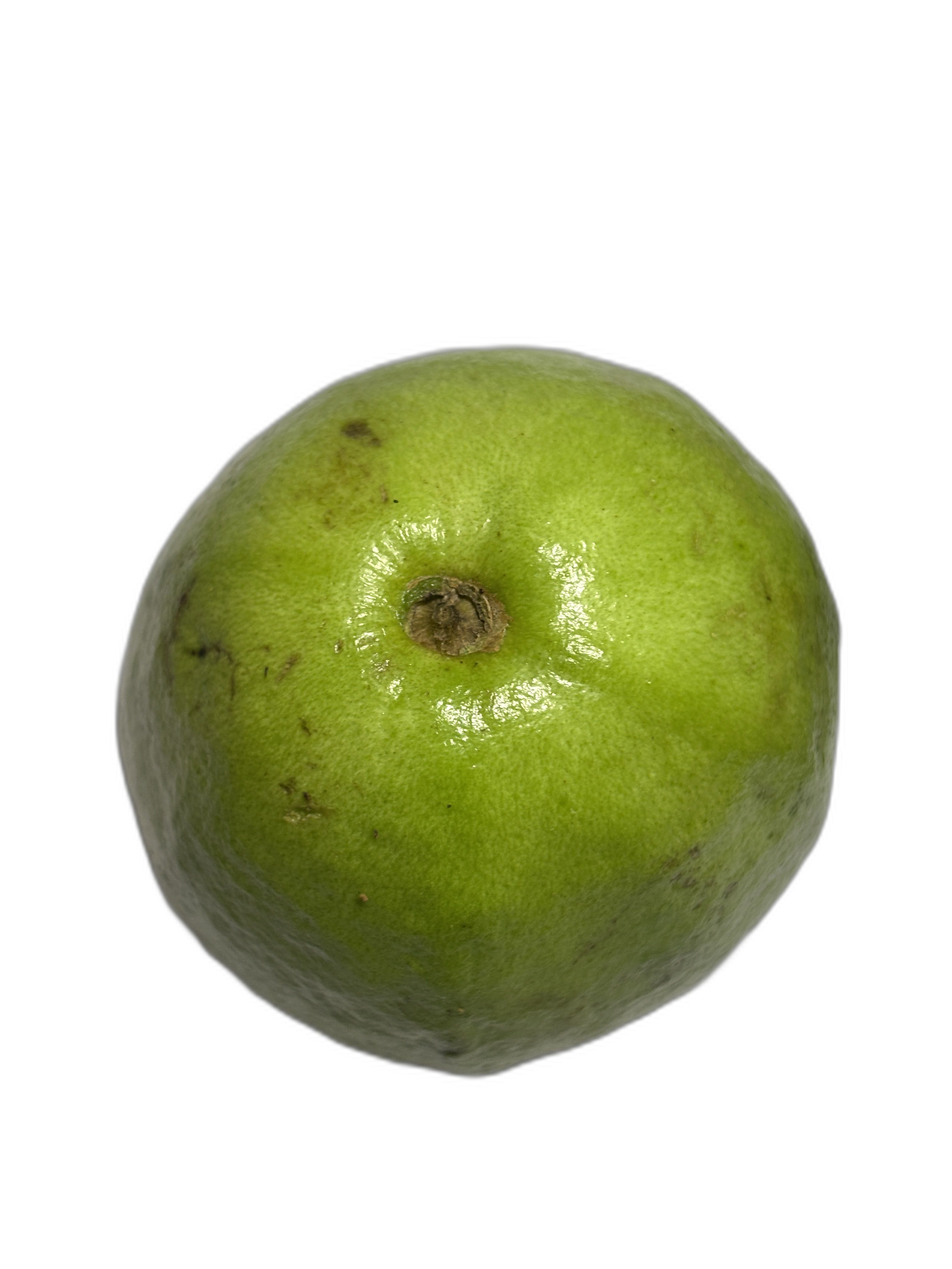guava: (183, 327, 792, 1112)
